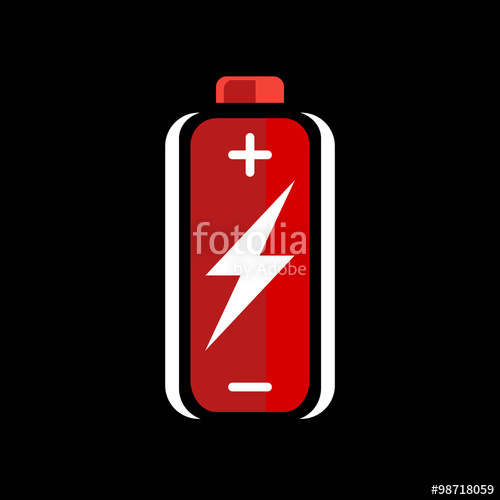charging sign: (108, 59, 379, 446)
